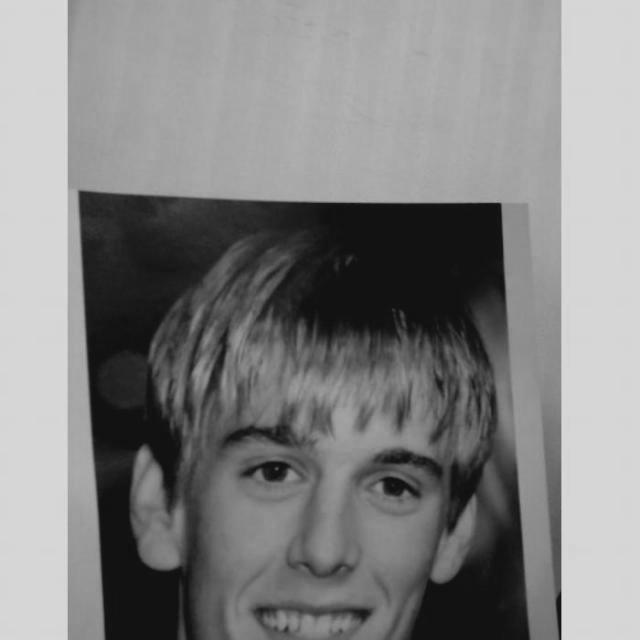fake: (70, 190, 562, 640)
